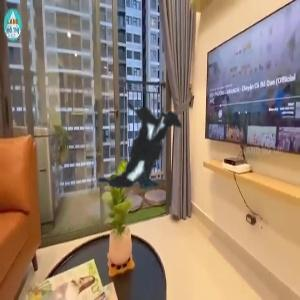drone: (5, 6, 289, 290)
